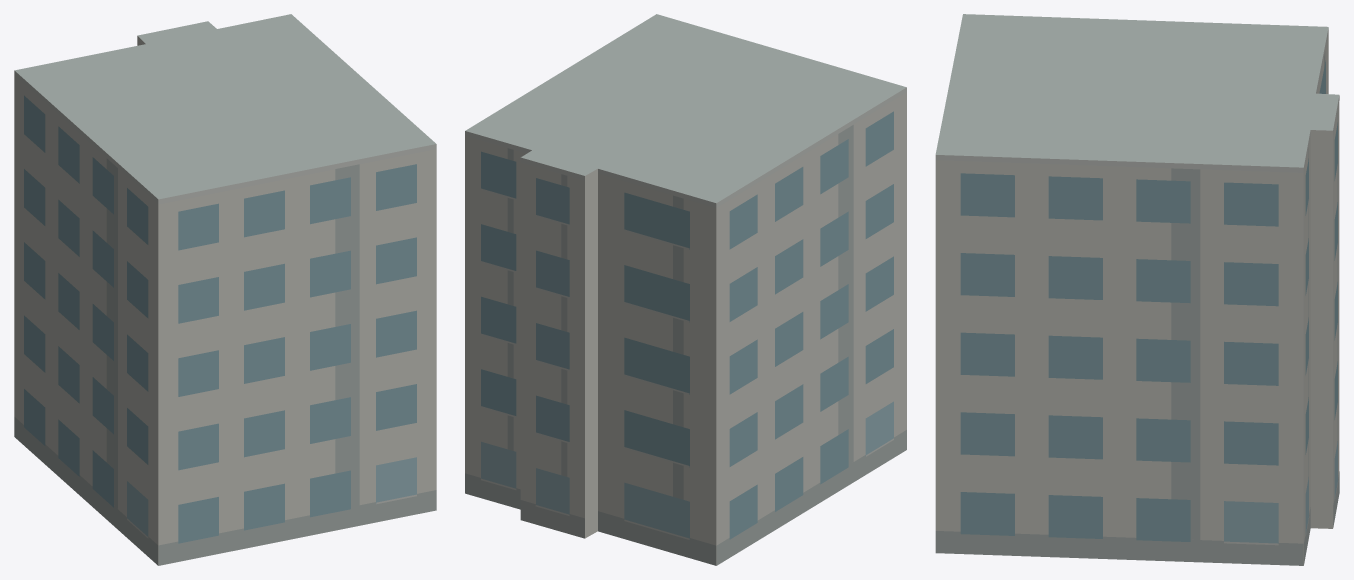
Rendered from survey-upis-32837653.glb.
3 views of the same model, side by side, from view 1: azimuth 30°, elevation 25°; view 2: azimuth 150°, elevation 25°; view 3: azimuth 270°, elevation 25° (orthographic). The views are drawn at different scales.
Visible parts, largest first — view 1: survey-upis-32837653.tmp; view 2: survey-upis-32837653.tmp; view 3: survey-upis-32837653.tmp.
Part boxes in pixels (x1,y1,x2,y2): survey-upis-32837653.tmp: [14, 14, 436, 565]; survey-upis-32837653.tmp: [465, 14, 906, 565]; survey-upis-32837653.tmp: [935, 14, 1339, 565].
Size of the model in its own units: 14.94 by 18.05 by 16.6.
